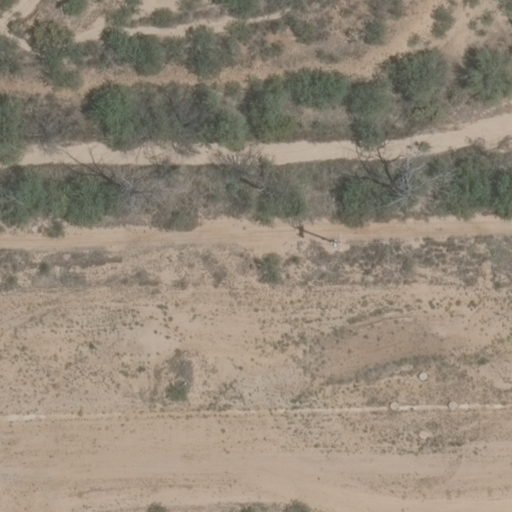DT: (328, 234, 350, 253)
